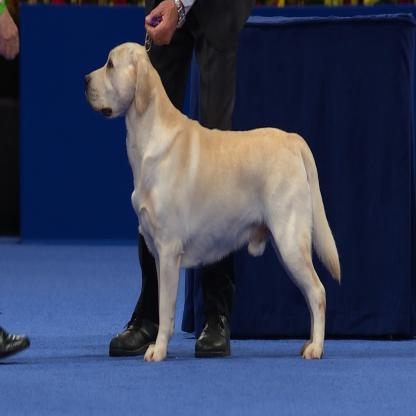Labarador Retriever: (83, 38, 336, 365)
